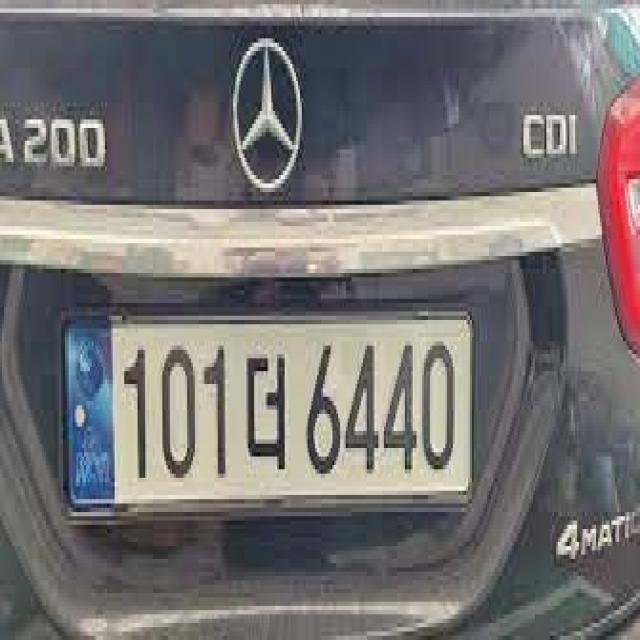illegal_plate: (57, 296, 478, 535)
